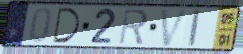0: (27, 6, 54, 45)
2: (89, 7, 117, 47)
D: (52, 6, 82, 45)
I: (188, 9, 202, 48)
R: (117, 7, 150, 46)
V: (159, 8, 191, 48)
